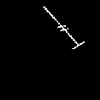treble_crochet: (44, 7, 83, 48)
